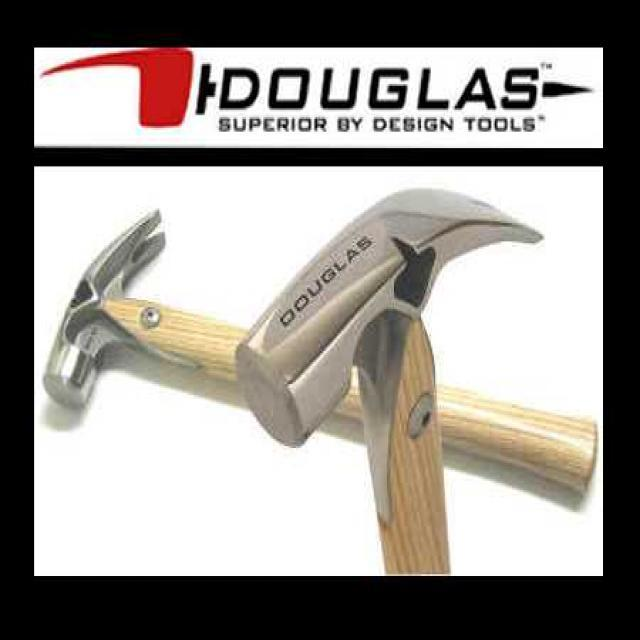hammer: (238, 183, 540, 466), (39, 201, 237, 441)
